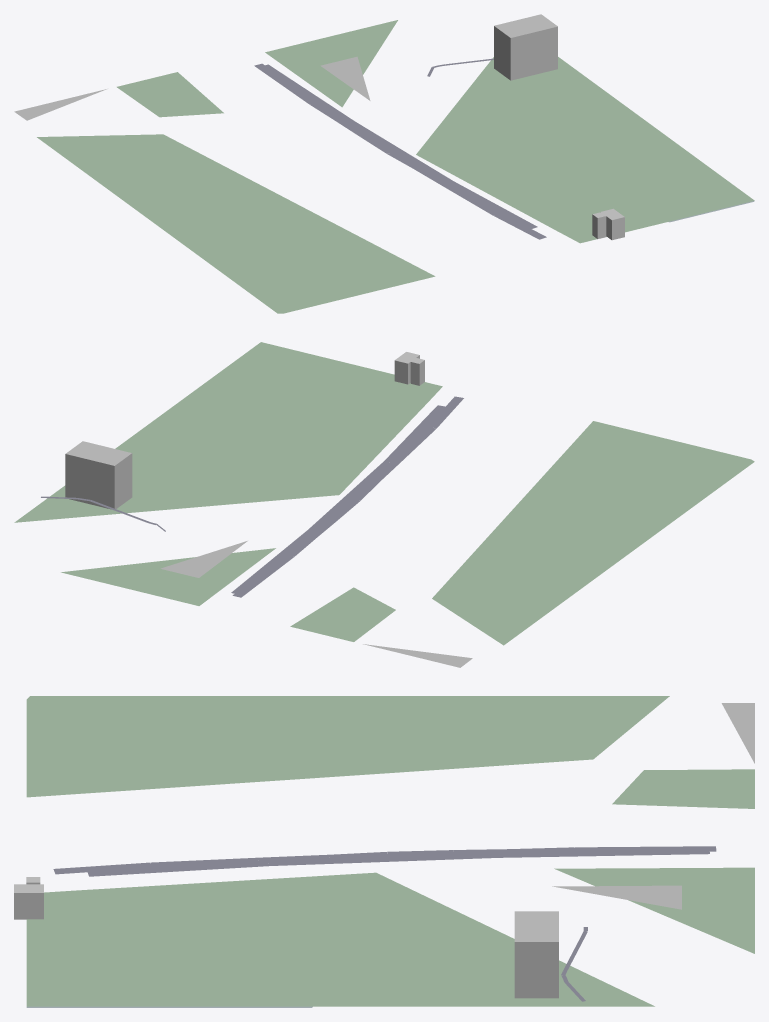
The model's file is 135_114_mid.glb.
The picture shows the model from 3 angles, top to bottom: view 1: azimuth 30°, elevation 25°; view 2: azimuth 150°, elevation 25°; view 3: azimuth 270°, elevation 25°; orthographic projection. The views are drawn at different scales.
Size of the model in its own units: 502 by 43.8 by 509.
